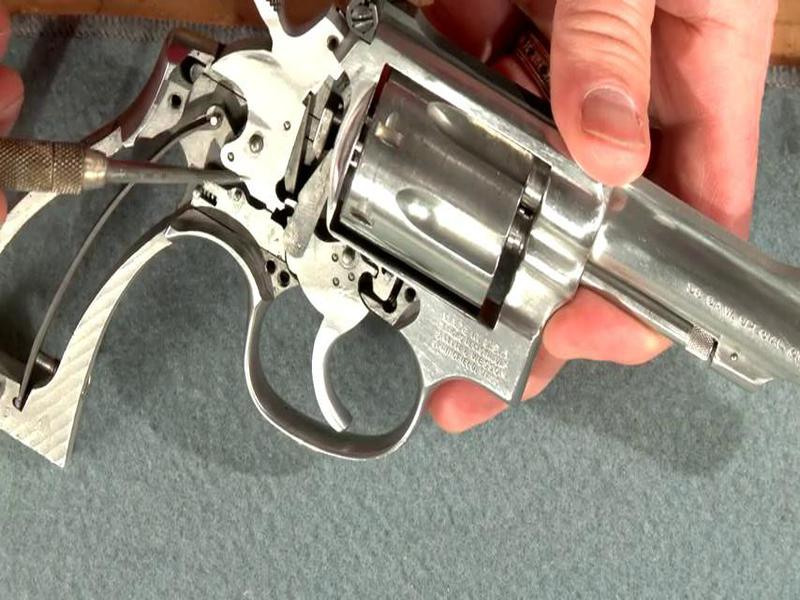Revolver: (23, 24, 800, 467)
